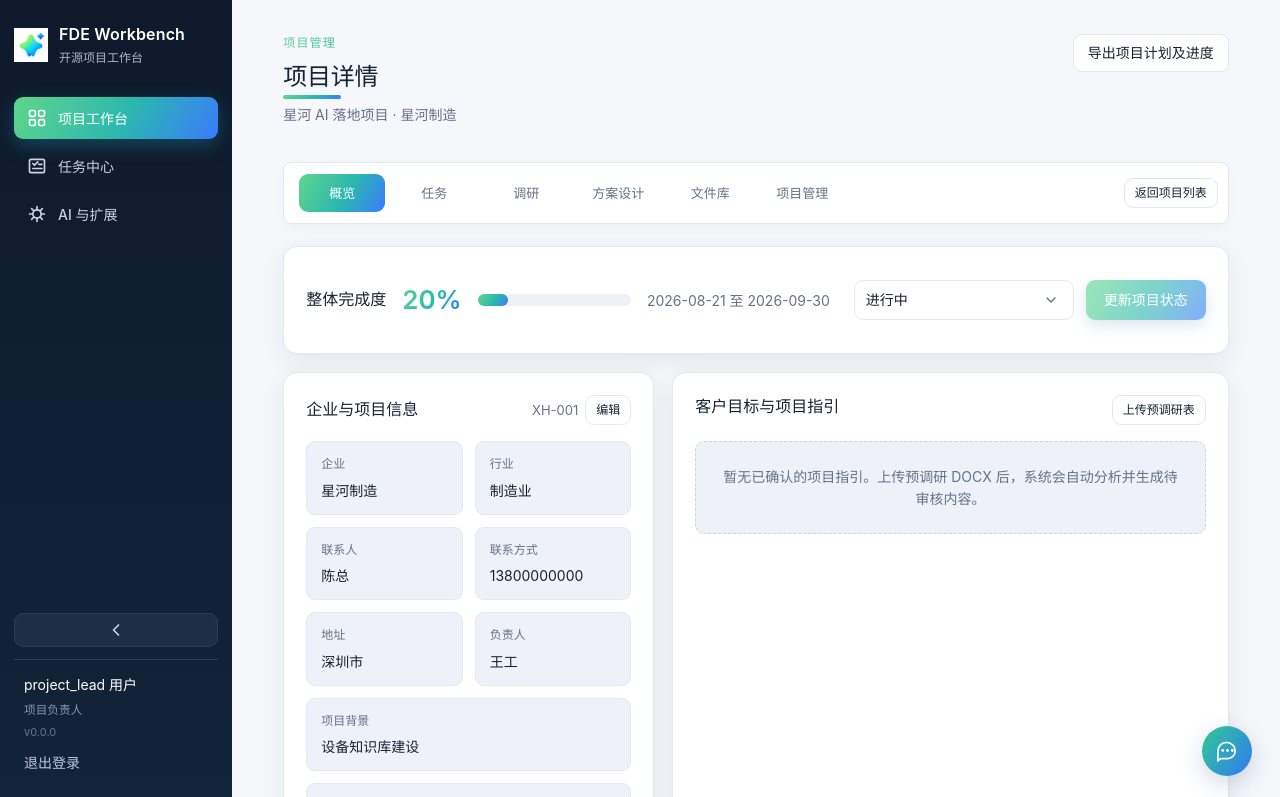
Test case: project detail workspace › submits project plan export from the page header
Click the button "导出项目计划及进度" at [1151, 53], box [1073,34,1229,72]
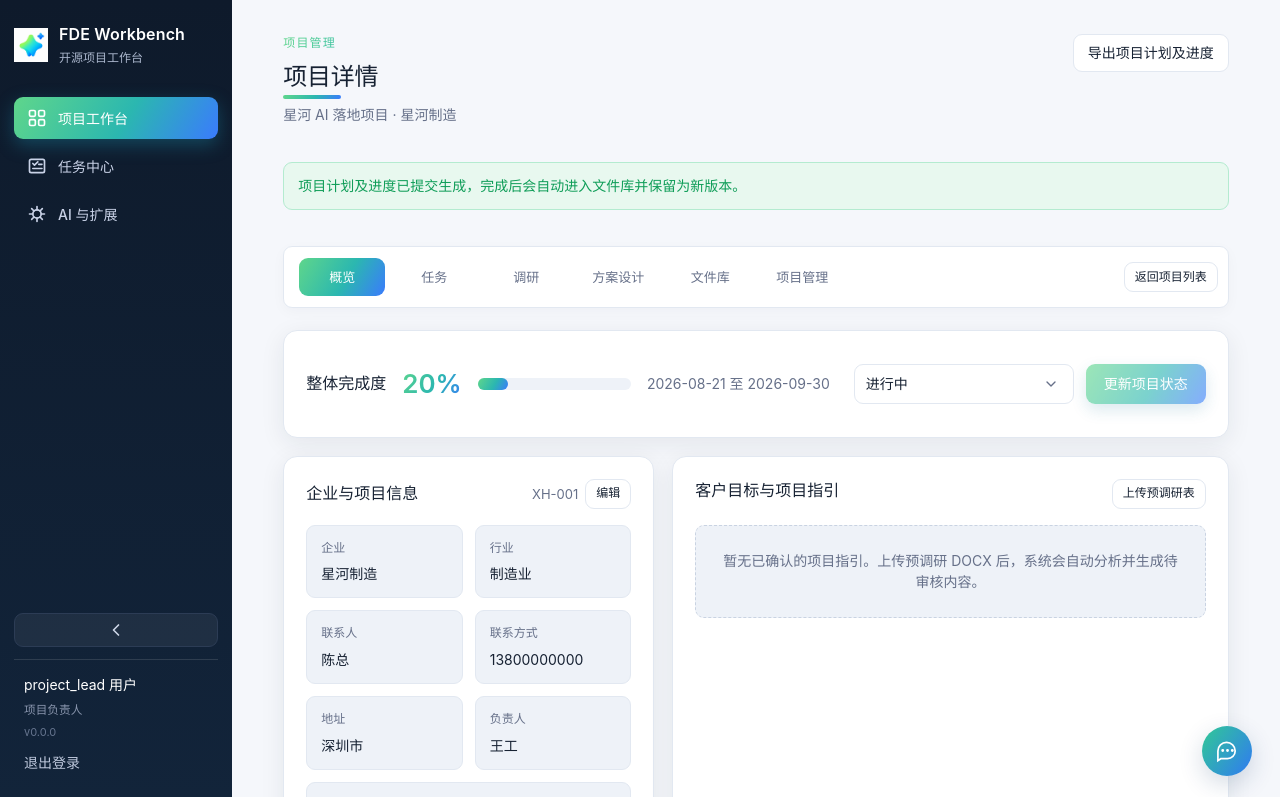
Result: the text "项目计划及进度已提交生成，完成后会自动进入文件库并保留为新版本。" is shown at [283,162,1229,210]
